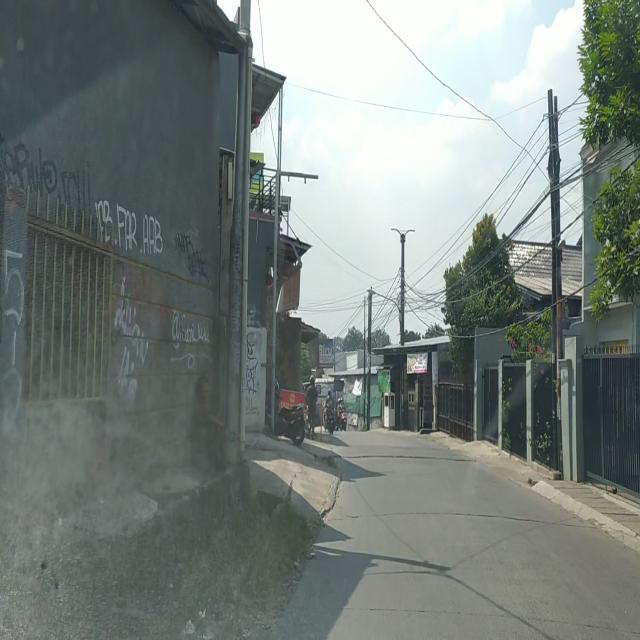Sewer Cover: (342, 512, 582, 528)
